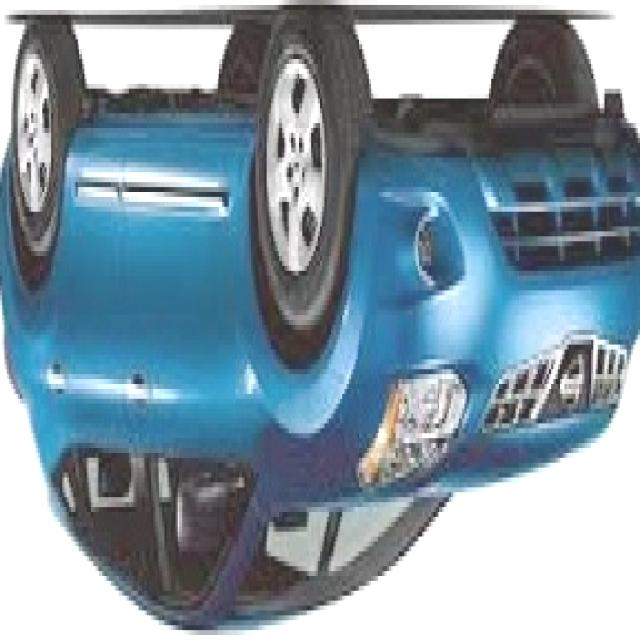blue: (0, 31, 638, 625)
